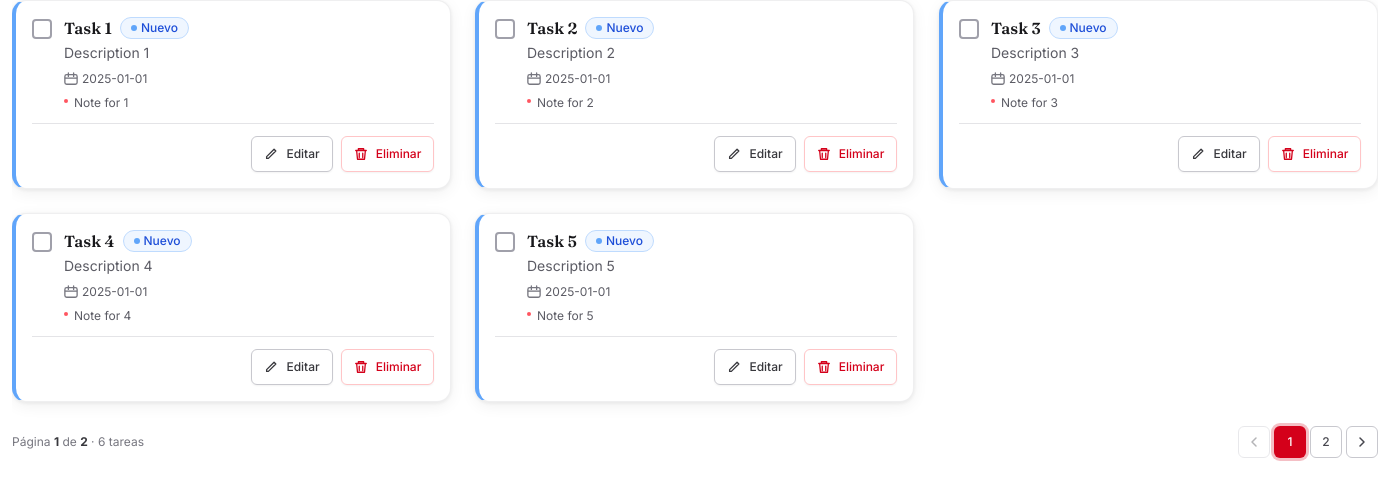
Test: TaskList › advances to next page when next page button is clicked
This screenshot has width=1390, height=478.
Expected: the heading "Task 1" is shown, top-left (64, 17), bottom-right (112, 39)
Click the button named "página siguiente".
click(1362, 442)  # box top-left (1346, 426), bottom-right (1378, 458)
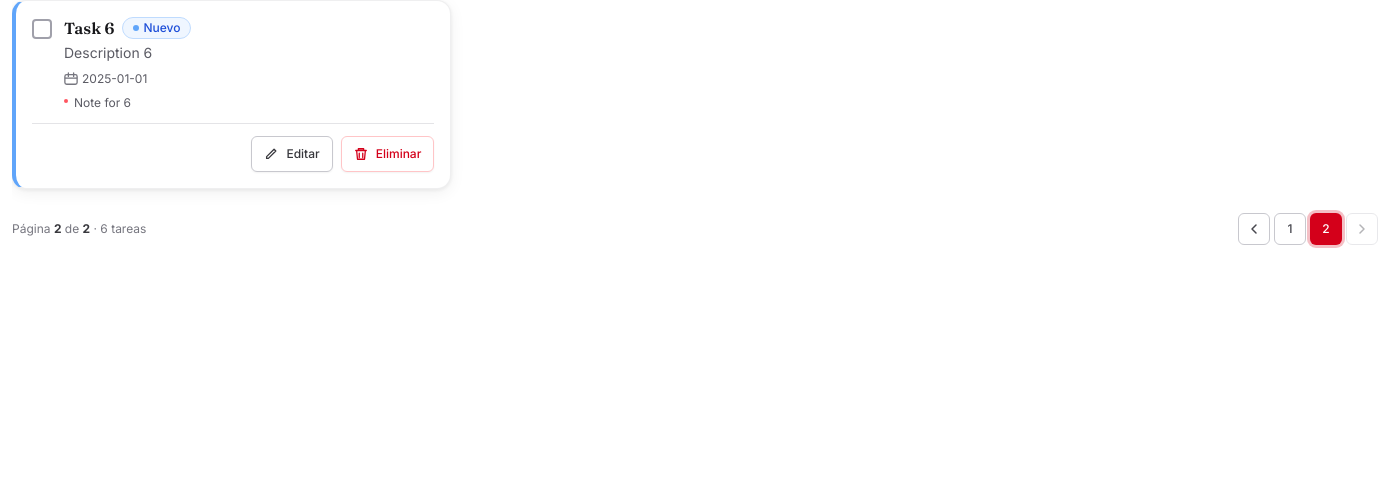
Now the heading "Task 6" is shown, box top-left (64, 17), bottom-right (114, 39)
Now the heading "Task 1" is gone
